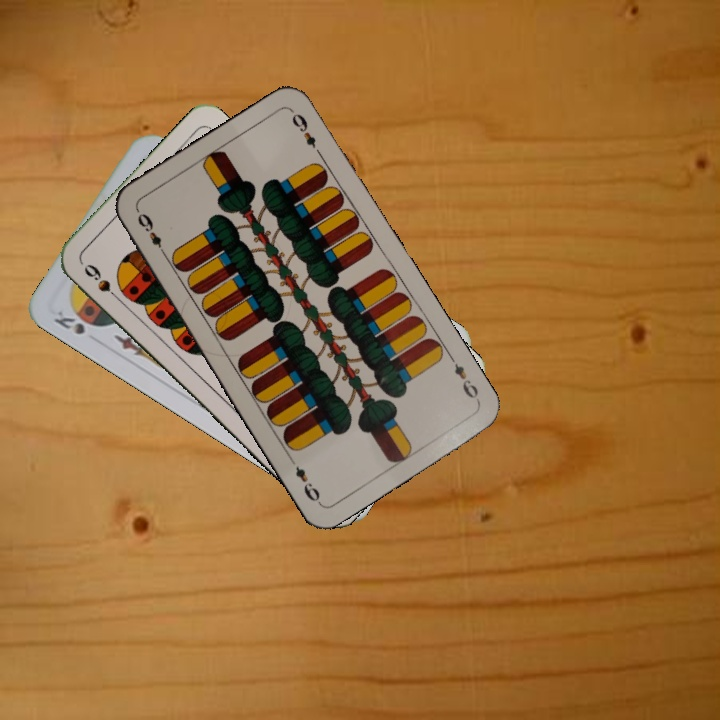E9: (445, 352, 482, 405), (133, 206, 169, 260)
S9: (79, 259, 125, 306)
SK: (49, 306, 88, 337)
